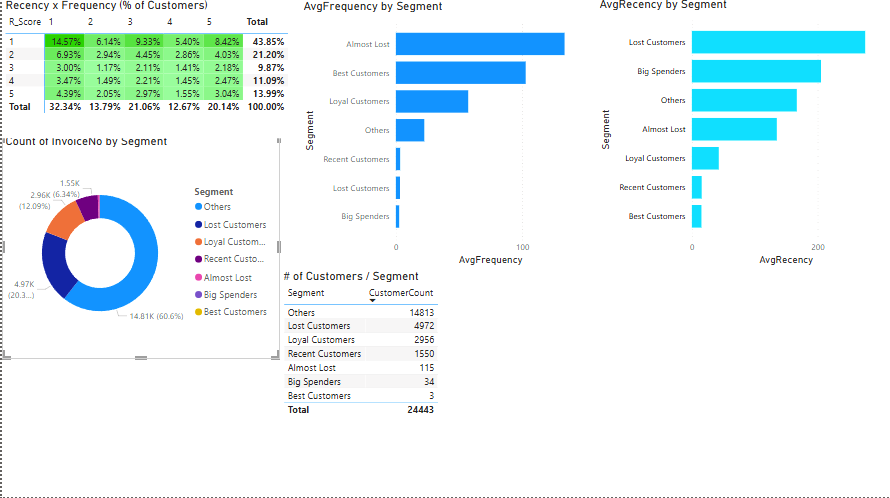

The page's visual inventory and layout, read from the dashboard file:
{"tool":"powerbi","page":{"name":"RFM Analysis","canvas":[1280,720],"ordinal":1},"visuals":[{"type":"donutChart","fields":{"Category":["Sheet1.RFM_Segment"],"Y":["CountNonNull(CustomerSummary.InvoiceNo)"]},"box":[0,197.3,400.3,324],"z":0},{"type":"actionButton","box":[0,0,100,40],"z":1000},{"type":"pivotTable","title":"Recency x Frequency (% of Customers)","fields":{"Rows":["CustomerSummary.R_Score"],"Columns":["CustomerSummary.F_Score"],"Values":["CustomerSummary.PercentOfCustomers"]},"box":[0,1.4,429.1,201.6],"z":2000},{"type":"clusteredBarChart","fields":{"Category":["CustomerSummary.Segment"],"Y":["CustomerSummary.AvgRecency"]},"box":[855.4,0,424.8,391.7],"z":3000},{"type":"tableEx","title":"# of Customers  /  Segment","fields":{"Values":["CustomerSummary.Segment","CustomerSummary.CustomerCount"]},"box":[400.3,391.7,267.8,328.3],"z":4000},{"type":"clusteredBarChart","fields":{"Category":["CustomerSummary.Segment"],"Y":["CustomerSummary.AvgFrequency"]},"box":[429.1,2.9,426.2,388.8],"z":5000}]}

Visuals, with their boxes in screenshot pixels (x1, y1, x2, y2), scaled from the page's 1280x720 canvas onto the 890x498 screenshot:
donutChart - Sheet1.RFM_Segment x CountNonNull(CustomerSummary.InvoiceNo): box(0, 136, 278, 361)
actionButton: box(0, 0, 70, 28)
"Recency x Frequency (% of Customers)" pivotTable: box(0, 1, 298, 140)
clusteredBarChart - CustomerSummary.Segment x CustomerSummary.AvgRecency: box(595, 0, 889, 271)
"# of Customers  /  Segment" tableEx: box(278, 271, 465, 497)
clusteredBarChart - CustomerSummary.Segment x CustomerSummary.AvgFrequency: box(298, 2, 595, 271)
